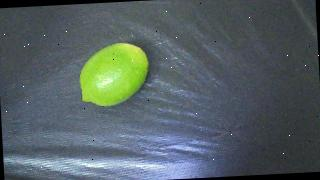LOCAL: (78, 42, 151, 108)
